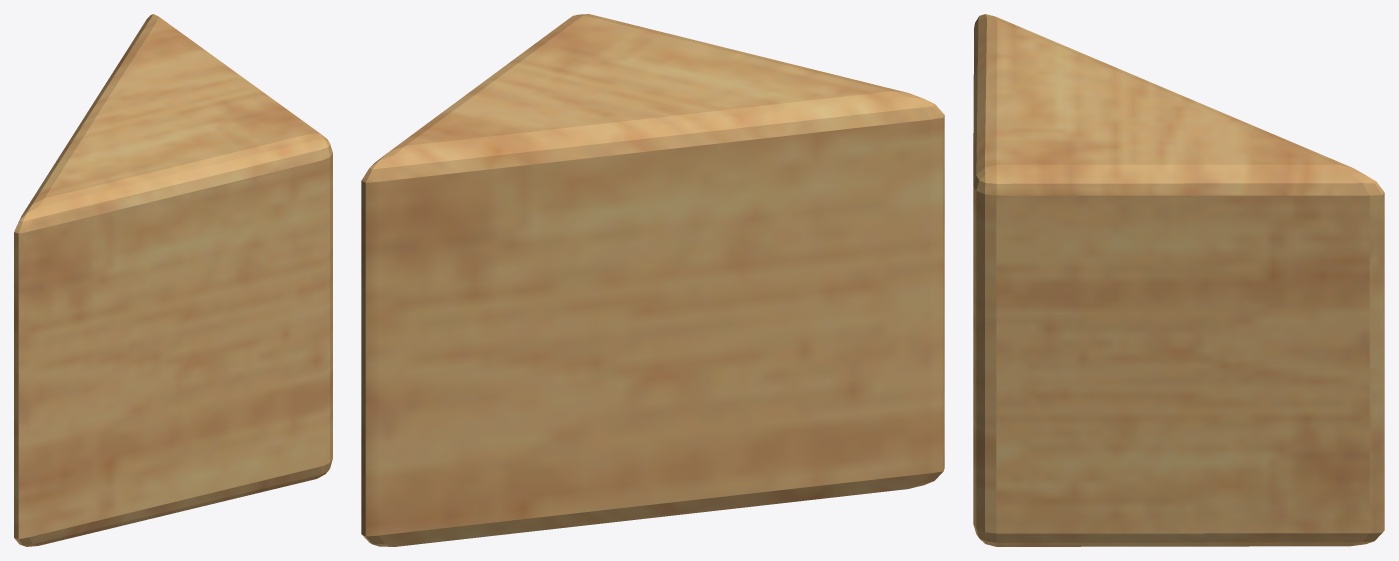
File: PinkTriPrisim.fbx
3 views of the same model, side by side, from view 1: azimuth 30°, elevation 25°; view 2: azimuth 150°, elevation 25°; view 3: azimuth 270°, elevation 25° (orthographic). The views are drawn at different scales.
Visible parts, largest first — view 1: Cylinder.001; view 2: Cylinder.001; view 3: Cylinder.001.
Boxes of the visible parts, x1,y1,x2,y2 form: Cylinder.001: (14,14,332,546); Cylinder.001: (361,14,944,546); Cylinder.001: (973,14,1384,546).
Size of the model in its own units: 393 by 400 by 392.
